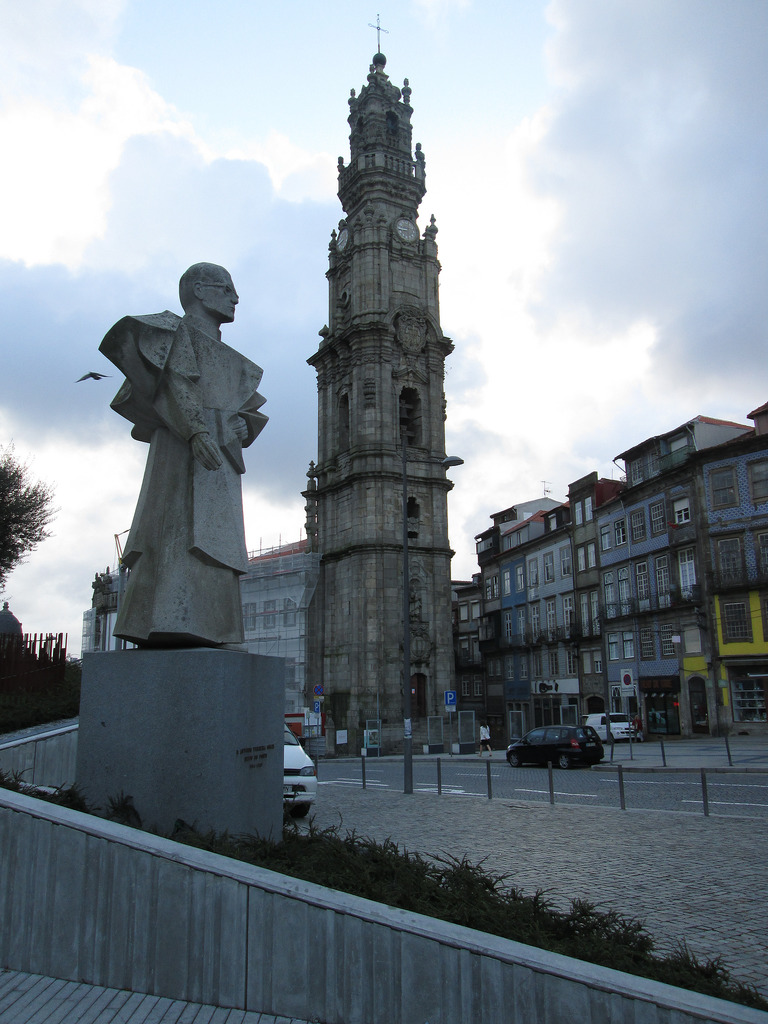clerigos: (301, 14, 458, 727)
